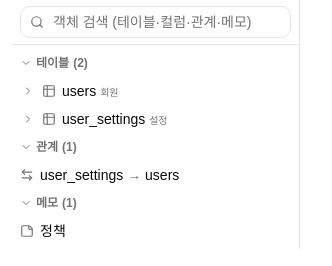
Test case: ModelExplorerPanel — 트리 렌더 › 그룹 헤더 접기 — 관계 그룹을 접으면 행이 사라진다
The width and height of the screenshot is (332, 266).
Click the button "관계 (1)" at (26, 147), box [12,133,299,161]
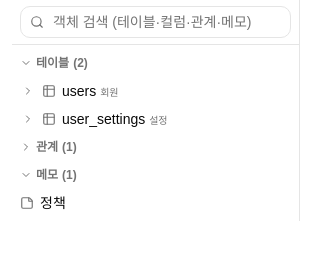
Expected: the element with id "explorer-rel-rel-1" is gone
